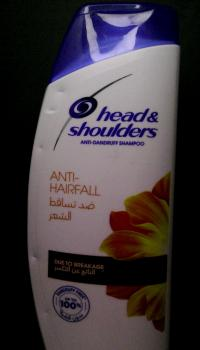dent_marginal: (44, 104, 61, 118), (51, 88, 70, 97), (30, 252, 40, 266), (36, 144, 47, 156), (40, 308, 51, 319)
